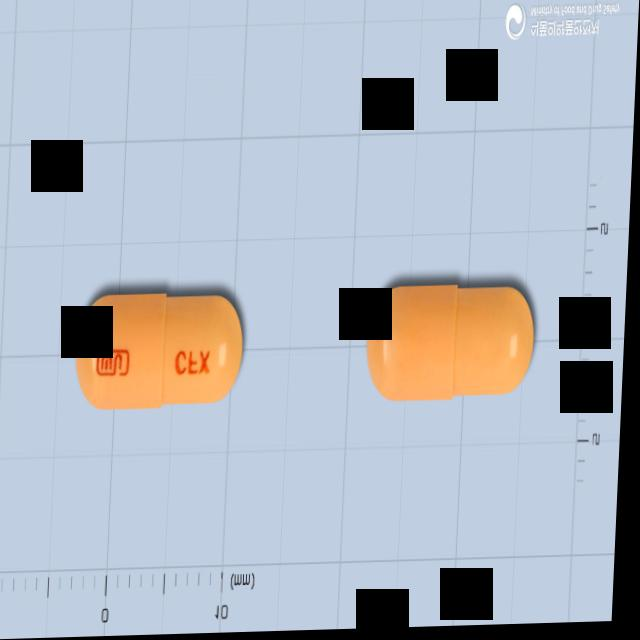Cefixime Cap- Withus: (75, 281, 253, 417), (366, 276, 546, 410)
